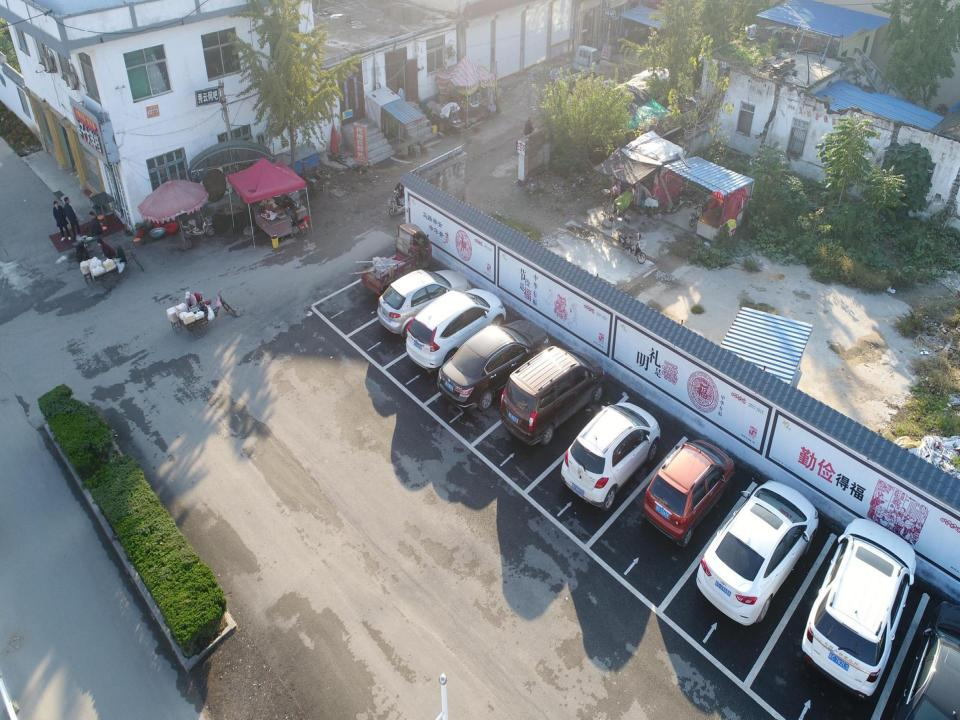car: (802, 514, 918, 699), (694, 478, 820, 626), (435, 311, 552, 411), (501, 338, 607, 447), (560, 399, 662, 512), (643, 434, 736, 548), (404, 282, 507, 370), (375, 264, 473, 336)
truck: (548, 40, 604, 92)
